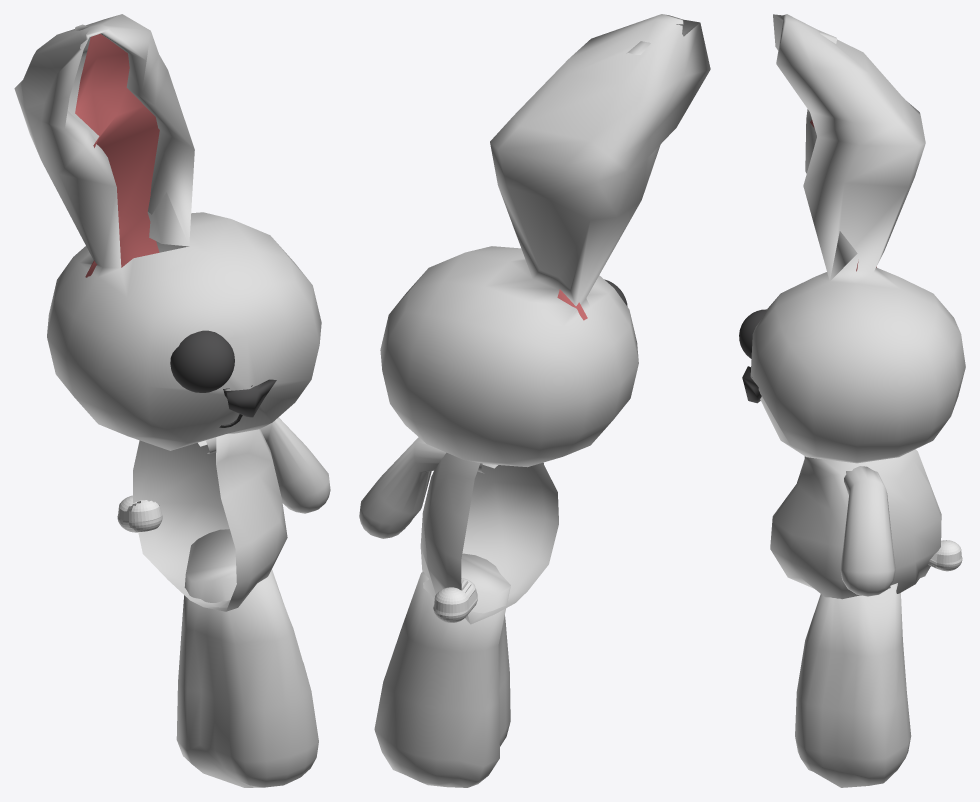
Rendered from rabbit.glb.
The picture shows the model from 3 angles, left to right: view 1: azimuth 30°, elevation 25°; view 2: azimuth 150°, elevation 25°; view 3: azimuth 270°, elevation 25°; orthographic projection. The views are drawn at different scales.
Parts seen in each view (by area): view 1: Body, Cube.003, Eyes, Tail, Nose; view 2: Body, Tail; view 3: Body, Tail, Eyes.
Part boxes in pixels (x1,y1,x2,y2): Body: [14, 14, 330, 787]; Cube.003: [75, 33, 159, 277]; Eyes: [170, 330, 234, 392]; Tail: [117, 495, 162, 532]; Nose: [223, 379, 276, 417]; Body: [359, 14, 710, 787]; Tail: [433, 578, 477, 622]; Body: [750, 14, 965, 787]; Tail: [928, 540, 962, 571]; Eyes: [739, 309, 766, 358].
Bounding box in the file's own units: 0.7411 × 1.87 × 0.5655.
